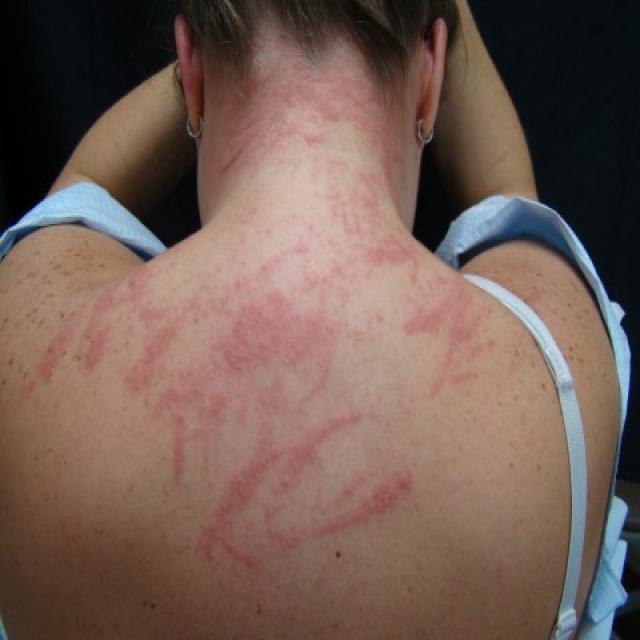hives: (24, 253, 540, 569), (225, 102, 403, 281)
